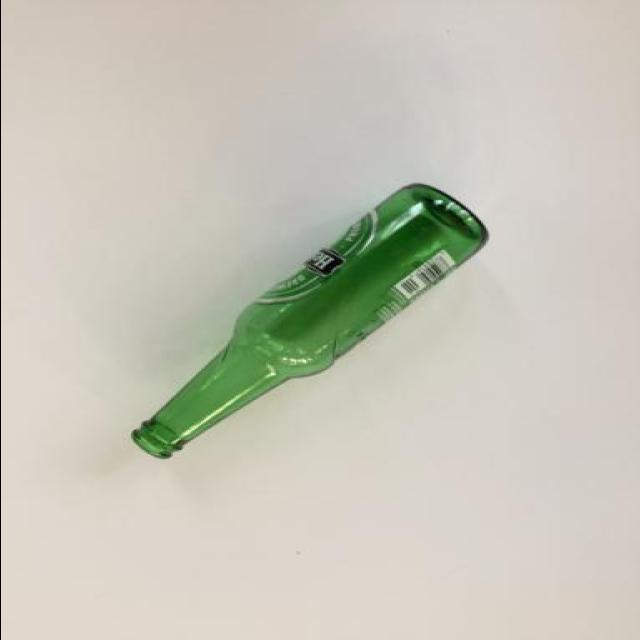glass: (130, 180, 490, 457)
